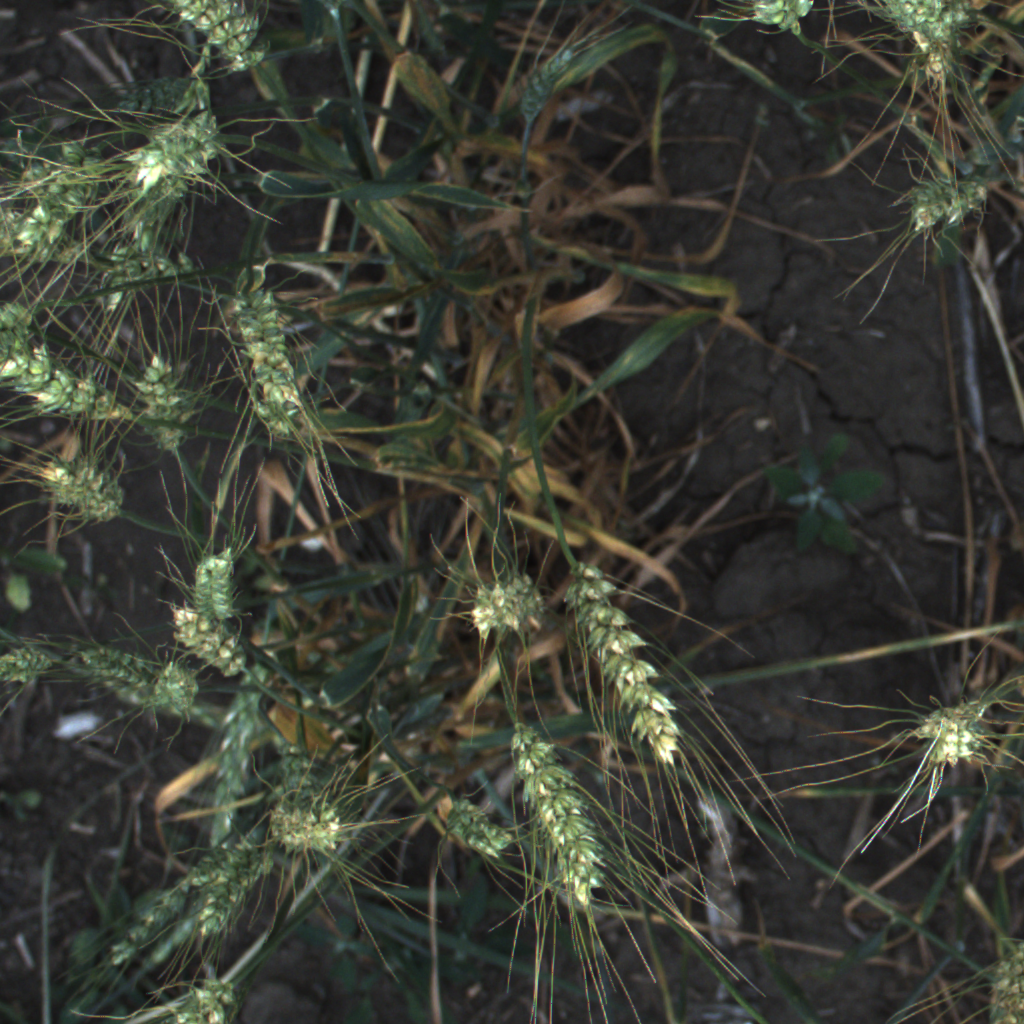wheat_head: (557, 550, 694, 781), (498, 707, 615, 921), (224, 272, 322, 440), (0, 333, 146, 432), (192, 822, 286, 947), (129, 95, 244, 197), (125, 334, 212, 465), (91, 871, 194, 976), (11, 148, 108, 258), (142, 0, 282, 74), (157, 589, 262, 684), (256, 790, 373, 865), (428, 785, 523, 877), (212, 667, 261, 841), (0, 201, 108, 279), (178, 531, 256, 636), (23, 447, 122, 515), (73, 629, 157, 699), (903, 173, 990, 232), (888, 0, 974, 56), (154, 978, 256, 1024), (697, 0, 817, 39), (94, 245, 193, 290), (274, 738, 325, 821), (520, 52, 579, 123), (1, 628, 62, 691), (141, 663, 211, 715), (489, 573, 543, 640), (913, 700, 990, 738), (934, 725, 997, 768), (465, 587, 517, 632)
